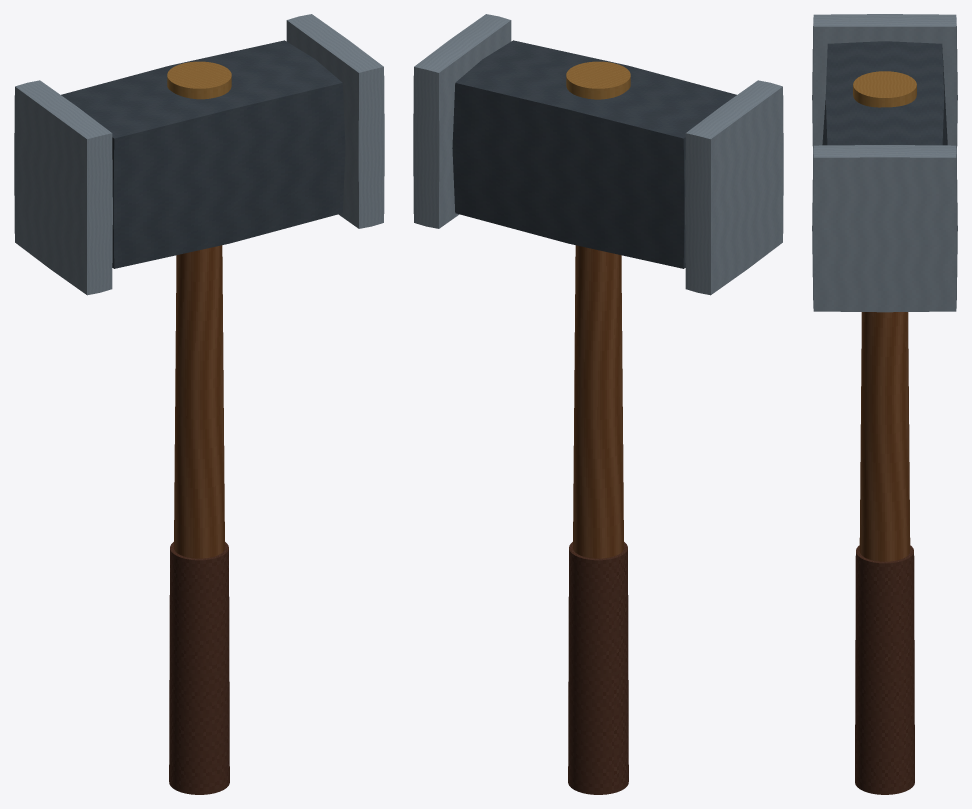
The model's file is warhammer.glb.
3 views of the same model, side by side, from view 1: azimuth 30°, elevation 25°; view 2: azimuth 150°, elevation 25°; view 3: azimuth 270°, elevation 25° (orthographic).
Parts seen in each view (by area): view 1: iron.3, steel.4, wood.0, leather.1, steel.5, brass.2; view 2: iron.3, steel.4, wood.0, leather.1, steel.5, brass.2; view 3: steel.5, leather.1, wood.0, iron.3, steel.4, brass.2.
Part boxes in pixels (box(x1,y1,x2,y2)): iron.3: box(61, 40, 345, 268); steel.4: box(14, 80, 112, 295); wood.0: box(174, 245, 224, 558); leather.1: box(169, 542, 229, 794); steel.5: box(286, 14, 384, 228); brass.2: box(167, 61, 231, 99); iron.3: box(452, 40, 736, 268); steel.4: box(685, 80, 783, 295); wood.0: box(573, 245, 623, 558); leather.1: box(568, 542, 628, 794); steel.5: box(413, 14, 511, 228); brass.2: box(566, 61, 630, 99); steel.5: box(812, 145, 957, 312); leather.1: box(855, 545, 914, 794); wood.0: box(859, 312, 910, 561); iron.3: box(822, 41, 947, 145); steel.4: box(812, 14, 957, 156); brass.2: box(853, 71, 916, 107).
Bounding box in the file's own units: 0.375 × 0.845 × 0.16.
Materials: 5 (5 with a texture image).
